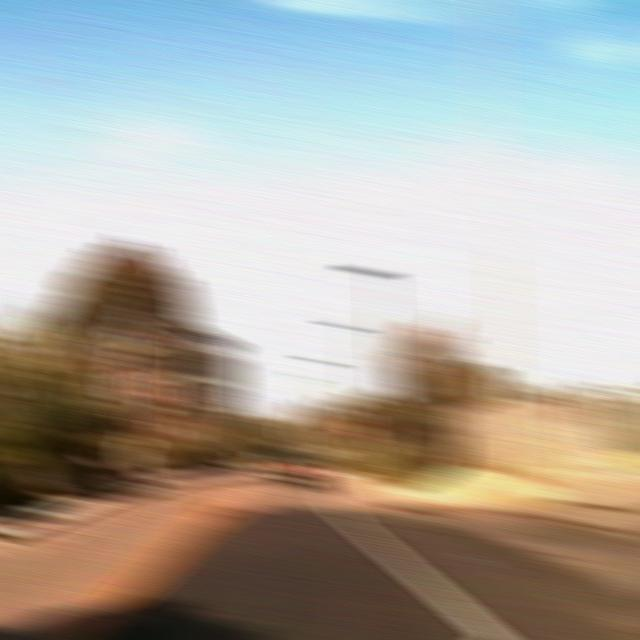stop: (344, 421, 372, 438)
